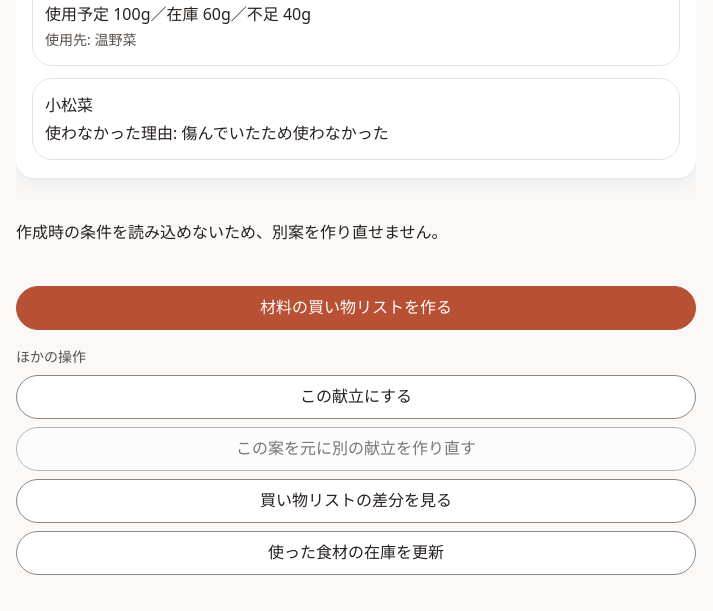
Test: MenuResultPage › discards reconcile sticky on list_version_conflict so true-stale can remint (SHOP1)
(page scrolled)
Click the button "買い物リストの差分を見る". click: [356, 501]
box: 16,479 -> 696,523
(page scrolled)
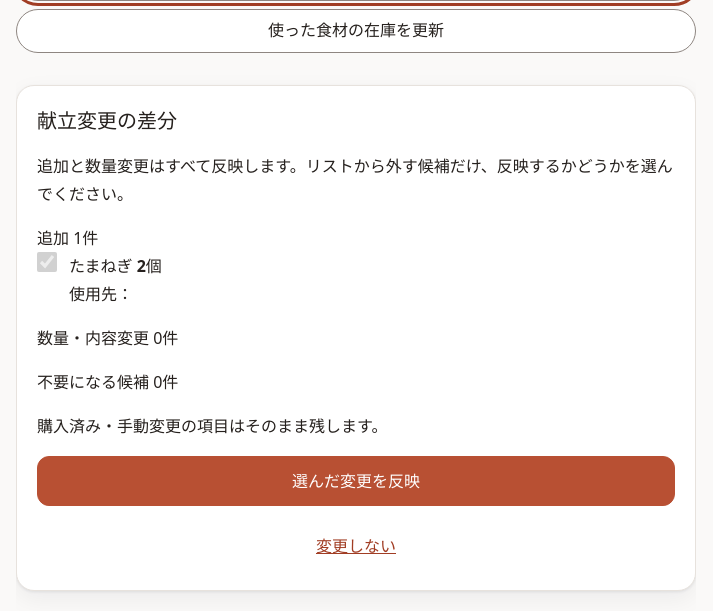
Click the button "選んだ変更を反映". click: [356, 481]
box: 37,456 -> 675,506
(page scrolled)
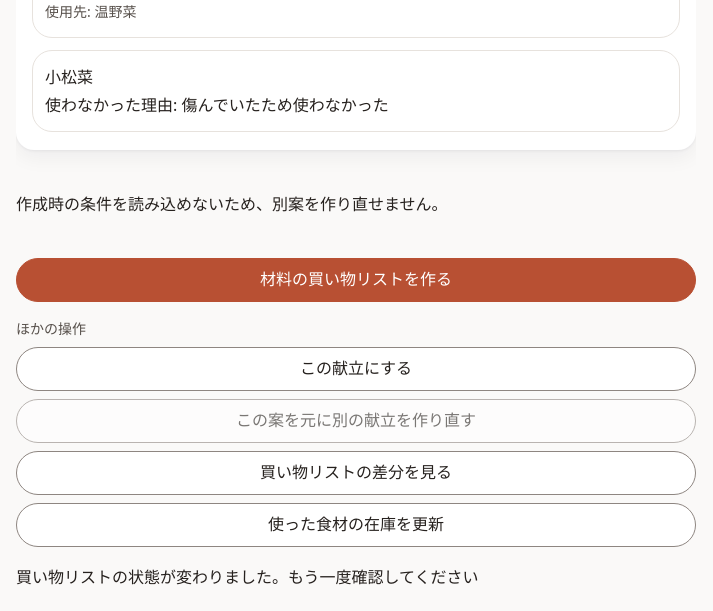
Expected: the message "買い物リストの状態が変わりました。もう一度確認してください" is shown, 16,566 -> 479,588
Expected: the heading "献立変更の差分" is gone
